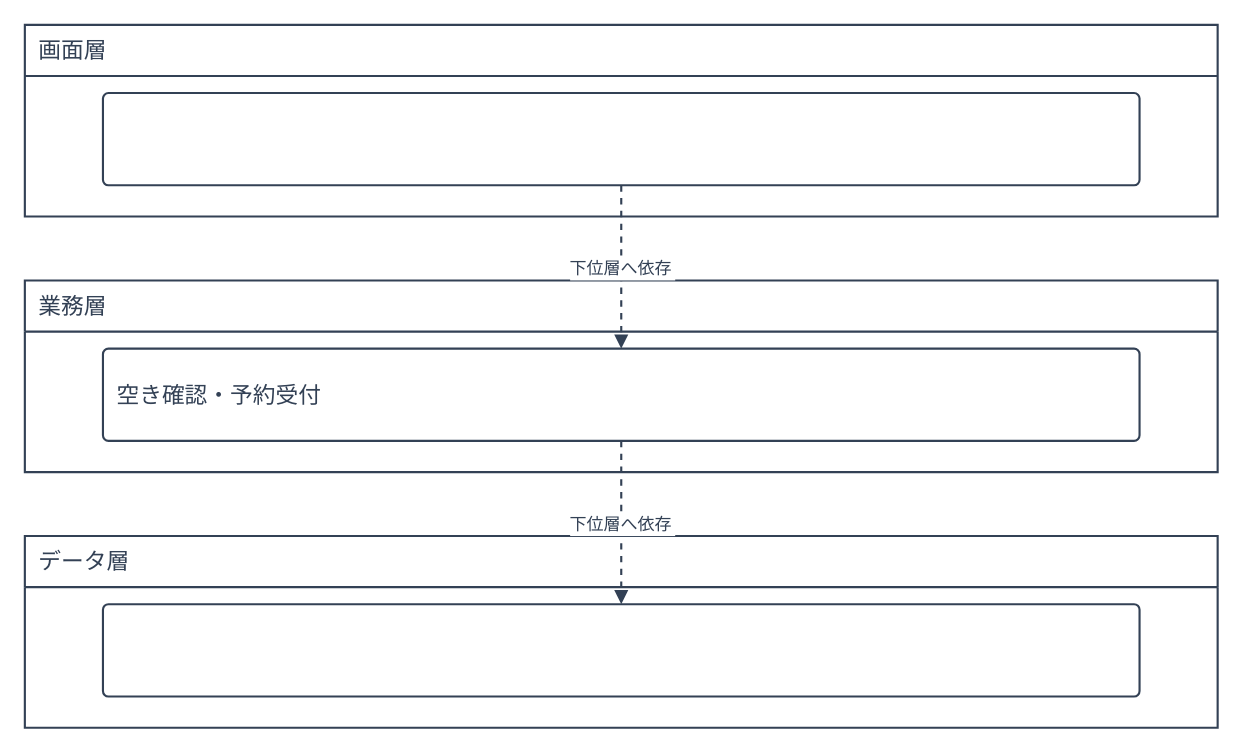
Image size: 1244x754. Some labels were removed from this diagram. Here are the shapes that lost their labels. From the top down, the centre of each, then its label:
(x=620, y=138): 入力・表示
(x=620, y=650): 予約の永続化
